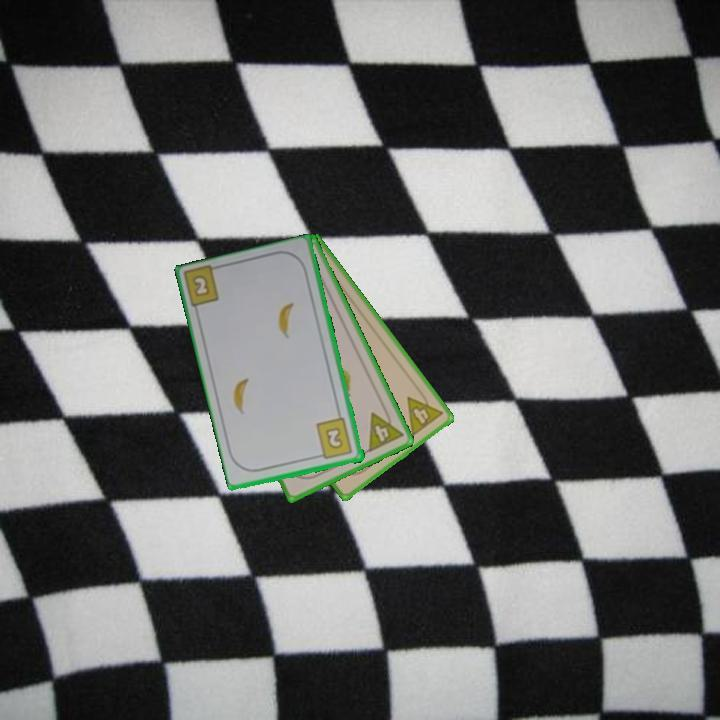2b: (313, 415, 355, 462), (189, 271, 213, 300)
4p: (403, 385, 446, 439), (365, 403, 406, 455)
